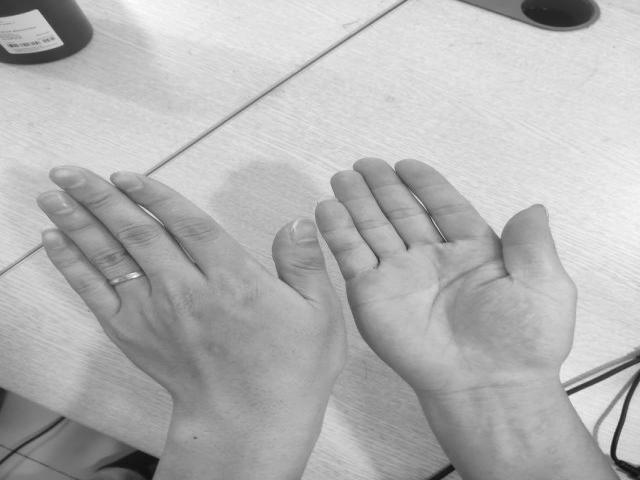not-gloved: (45, 164, 348, 415), (311, 157, 576, 404)
